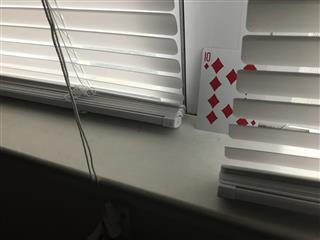TenOfDiamonds: (194, 45, 261, 134)
